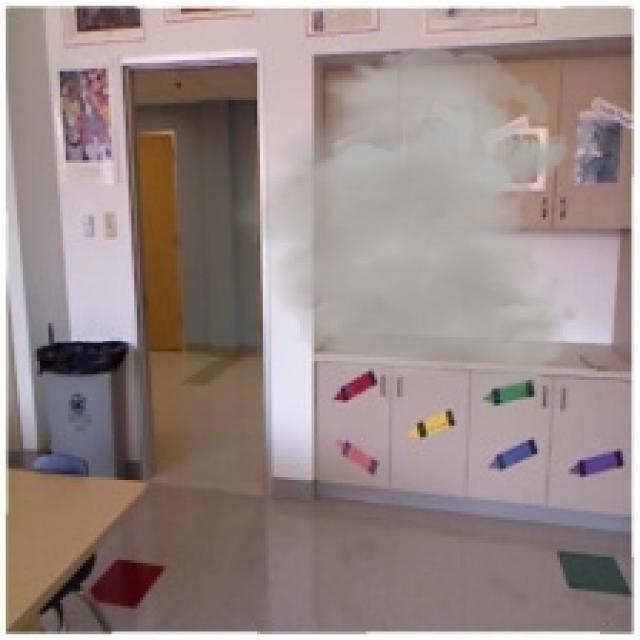smoke: (226, 49, 580, 392)
